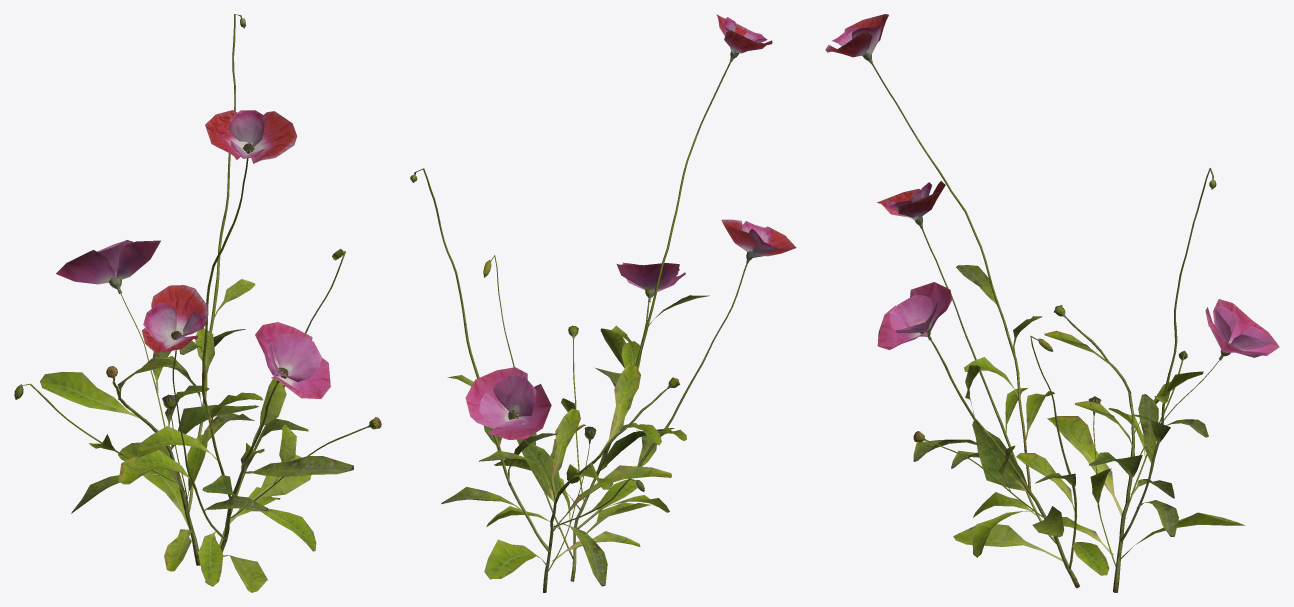
The model's file is Poppy_bush_normal_red.glb.
3 renders of one model, left to right at view 1: azimuth 30°, elevation 25°; view 2: azimuth 150°, elevation 25°; view 3: azimuth 270°, elevation 25°, orthographic. The views are drawn at different scales.
Visible parts, largest first — view 1: bushhhh; view 2: bushhhh; view 3: bushhhh.
Part boxes in pixels (x1,y1,x2,y2): bushhhh: [14, 14, 381, 592]; bushhhh: [410, 14, 796, 592]; bushhhh: [825, 14, 1279, 592].
Size of the model in its own units: 2.3 by 4.57 by 3.53.
1 material, 1 textured.
